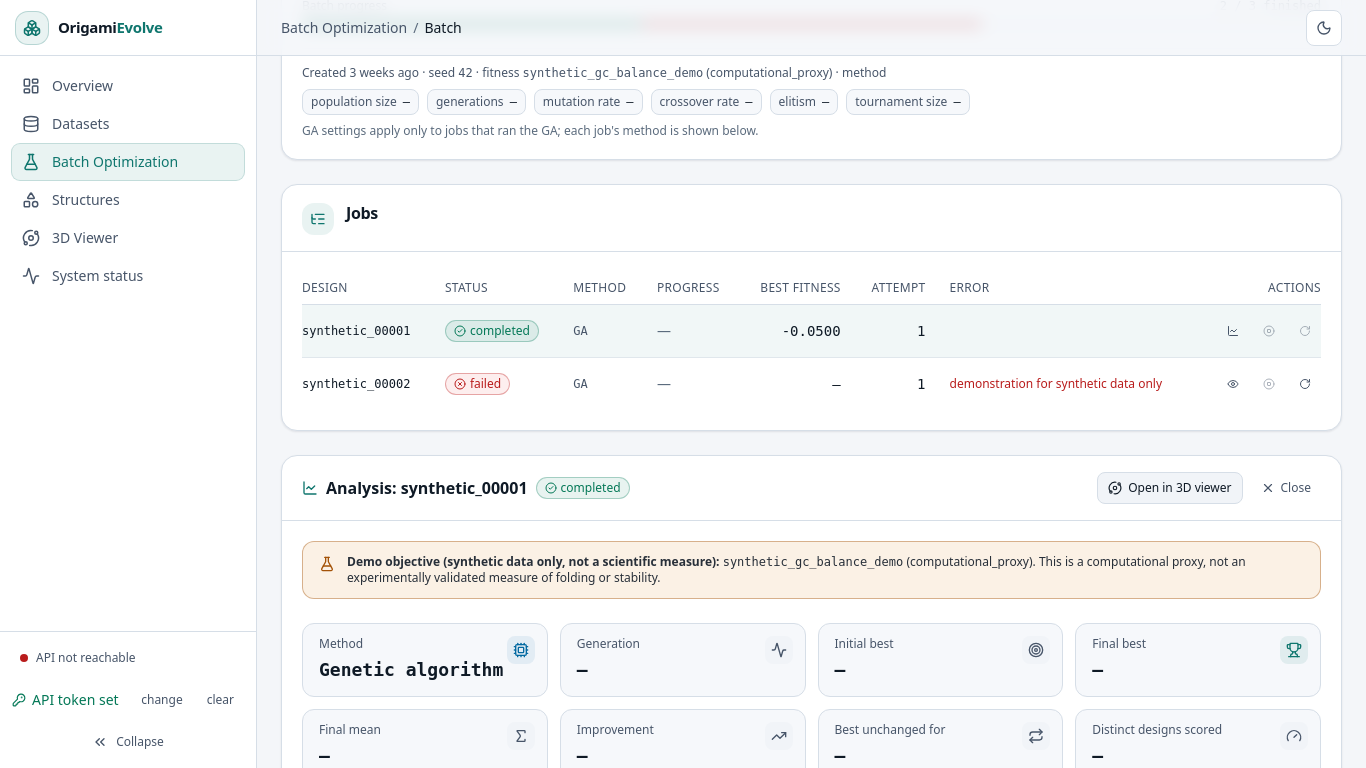
Test: batch optimization › disables disallowed actions and reports API errors without exposing the token
This screenshot has width=1366, height=768.
(page scrolled)
Expected: the button named "Cancel" in the row of "-0.0500" is disabled, [1253,315,1285,347]
Expected: the button named "Retry" in the row of "-0.0500" is disabled, [1289,315,1321,347]
What coordinates should you click on to do the following:
click the button named "Retry" in the row of "synthetic_00002"
I would click on:
 (1305, 384)
Its box is [1289,368,1321,400].
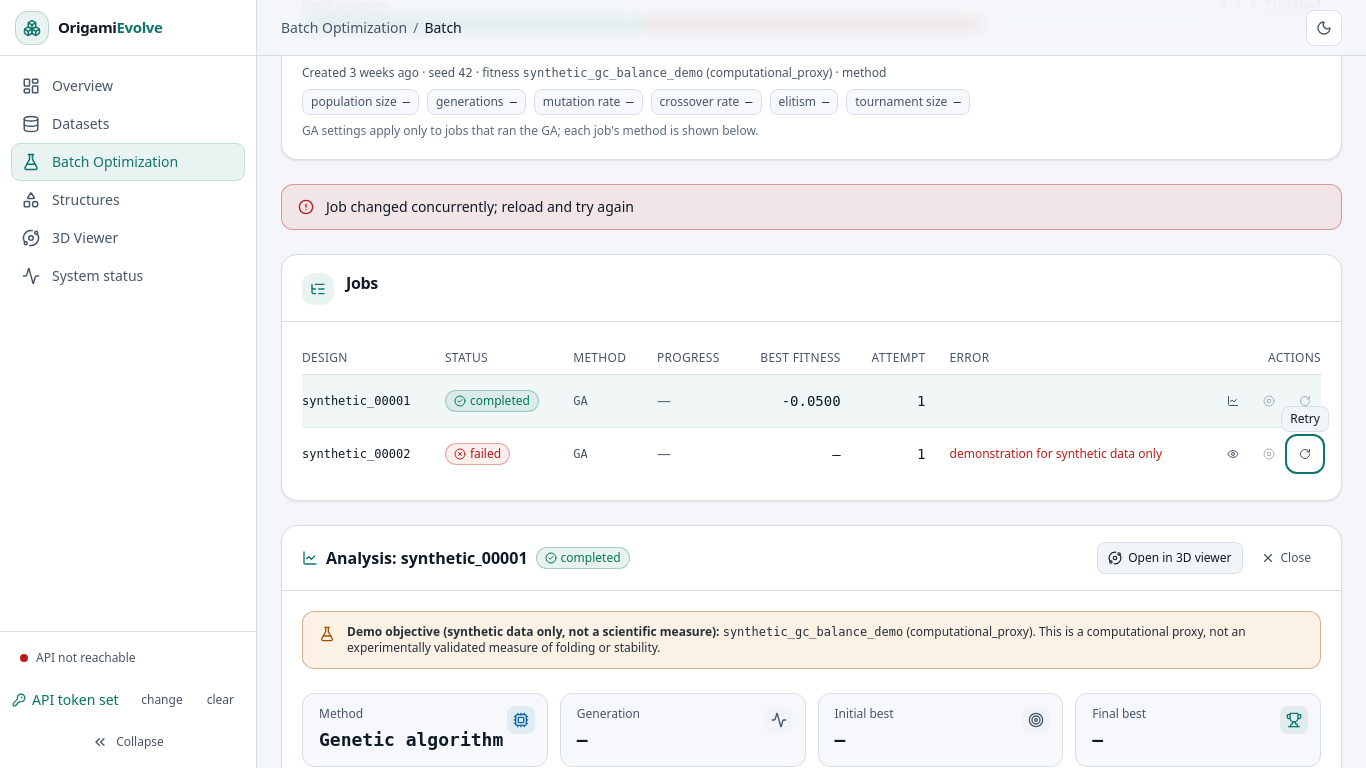
Result: the message reads "Job changed concurrently; reload and try again" at [326,197,634,216]
